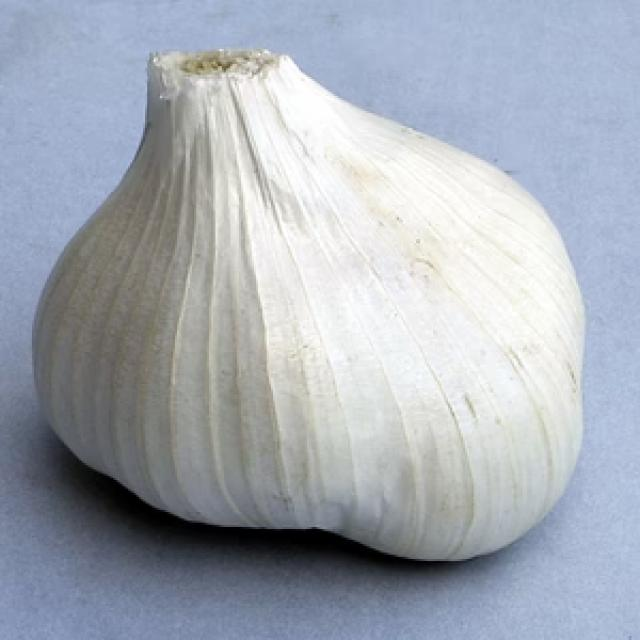garlic: (35, 74, 589, 568)
